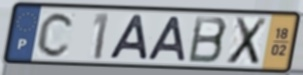1: (91, 11, 112, 61)
A: (106, 14, 151, 62), (144, 15, 187, 63)
B: (186, 14, 230, 65)
C: (35, 10, 77, 59)
X: (224, 15, 269, 67)
